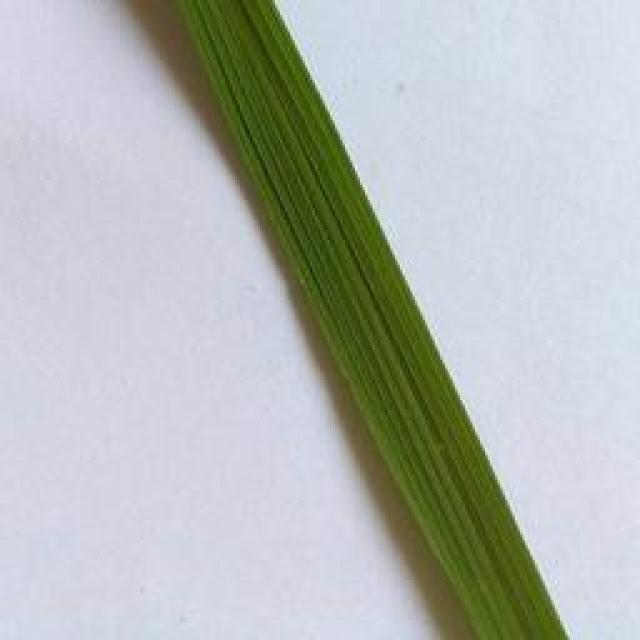Healthy-Plant: (166, 0, 586, 640)
